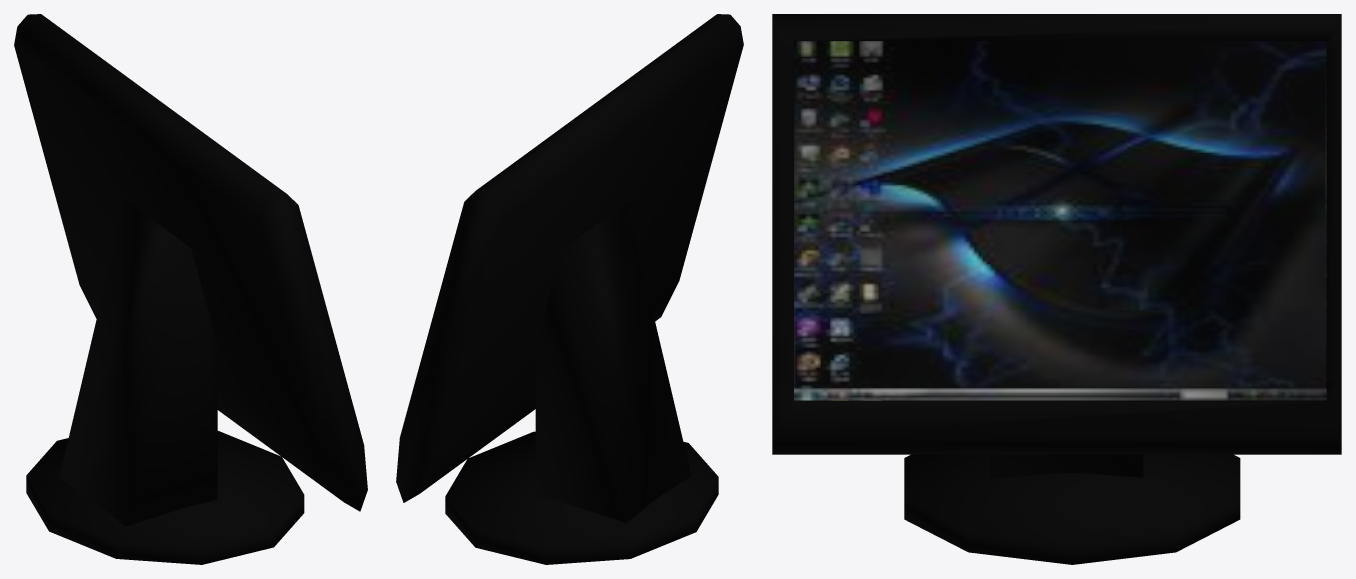
File: LCD.obj
3 renders of one model, left to right at view 1: azimuth 30°, elevation 25°; view 2: azimuth 150°, elevation 25°; view 3: azimuth 270°, elevation 25°, orthographic. The views are drawn at different scales.
Visible parts, largest first — view 1: LCD; view 2: LCD; view 3: CompScreen, LCD.
Boxes of the visible parts, x1,y1,x2,y2 form: LCD: [14, 14, 367, 564]; LCD: [396, 14, 743, 564]; CompScreen: [794, 41, 1326, 400]; LCD: [772, 14, 1341, 564].
Bounding box in the file's own units: 11.42 × 19.14 × 20.89.
Materials: 2 (2 with a texture image).
